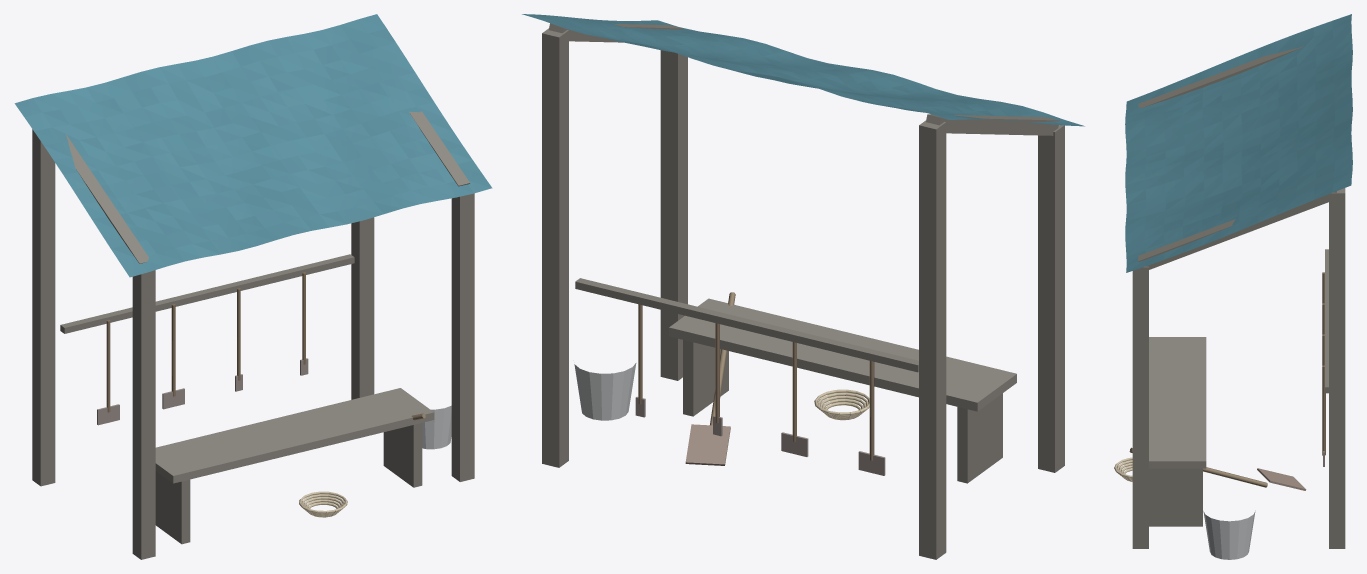
Rendered from cabin_lean_to_a.glb.
3 renders of one model, left to right at view 1: azimuth 30°, elevation 25°; view 2: azimuth 150°, elevation 25°; view 3: azimuth 270°, elevation 25°, orthographic. The views are drawn at different scales.
Parts seen in each view (by area): view 1: body; view 2: body; view 3: body.
Boxes of the visible parts, x1,y1,x2,y2 form: body: (14, 14, 492, 559); body: (522, 14, 1084, 559); body: (1114, 14, 1352, 559).
Bounding box in the file's own units: 2.6 × 2.5 × 1.46.
